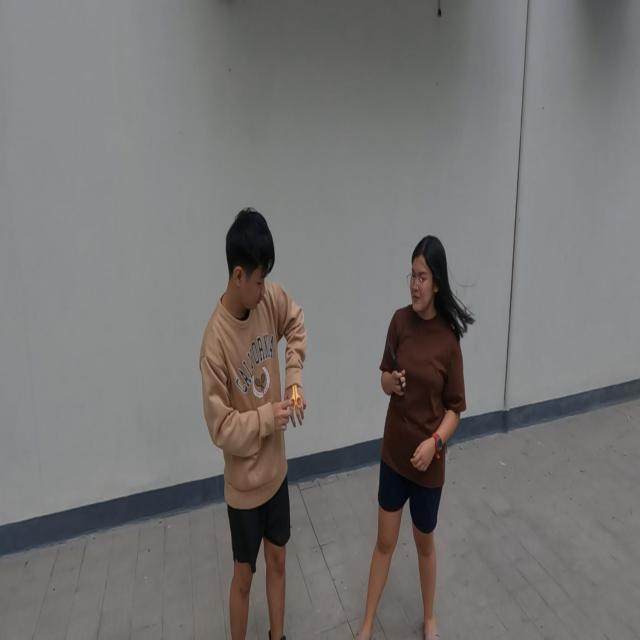scissor: (388, 339, 406, 394), (290, 381, 302, 411)
